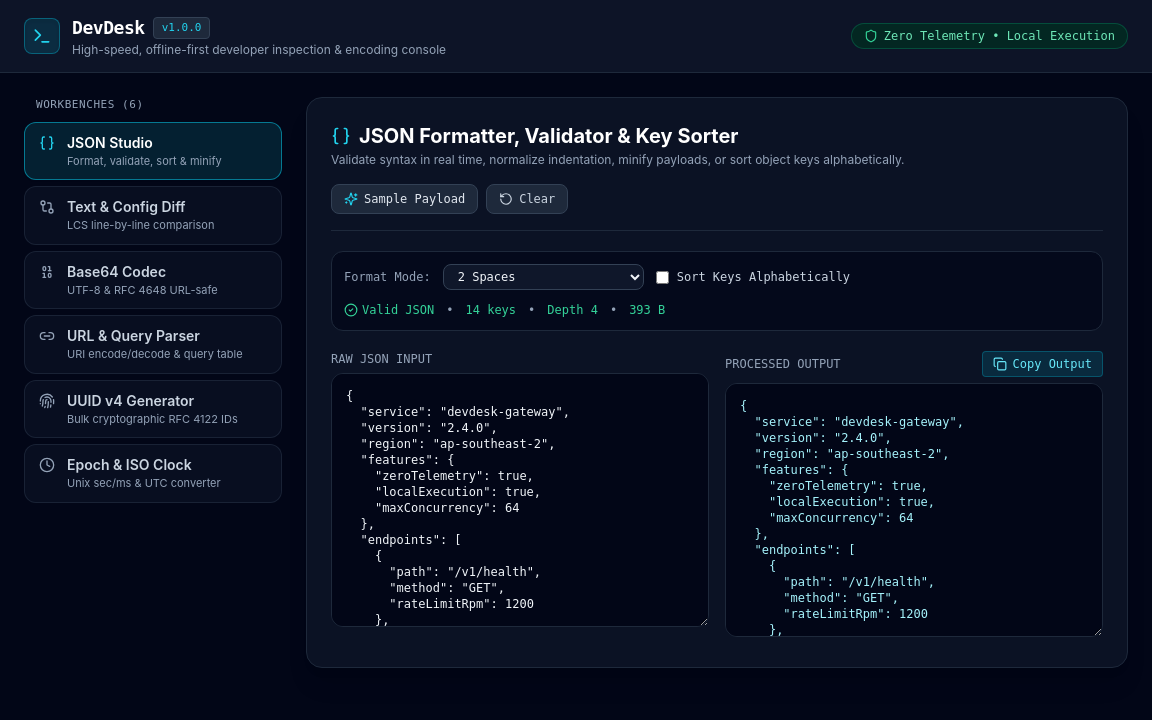
Test case: DevDesk Developer Utilities Suite › renders the DevDesk UI and navigates across all 6 developer tools
This screenshot has width=1152, height=720.
Expected: the heading "DevDesk" is shown, x1=72 y1=14 x2=145 y2=42
Expected: the heading "JSON Formatter, Validator & Key Sorter" is shown, x1=331 y1=124 x2=738 y2=148
Click the button "Text & Config Diff LCS line-by-line comparison" at (153, 215), box x1=24 y1=186 x2=282 y2=244
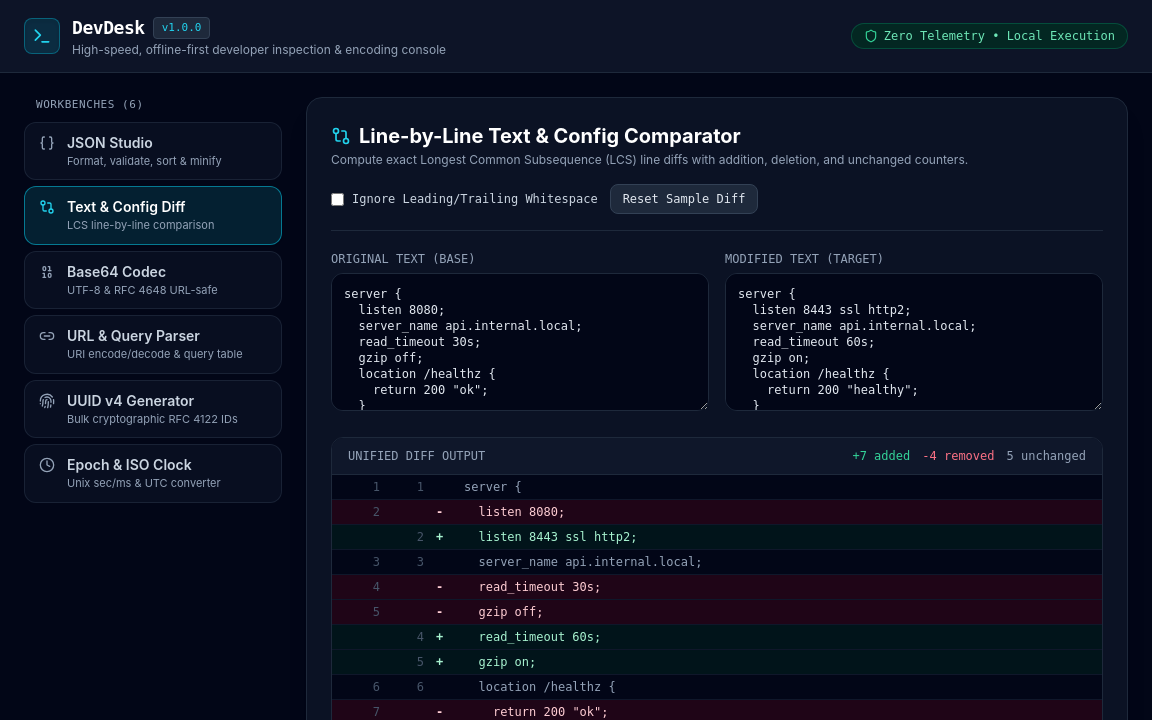
Now the heading "Line-by-Line Text & Config Comparator" is shown, box x1=331 y1=124 x2=741 y2=148
Click the button "UUID v4 Generator Bulk cryptographic RFC 4122 IDs" at (153, 409), box x1=24 y1=380 x2=282 y2=438
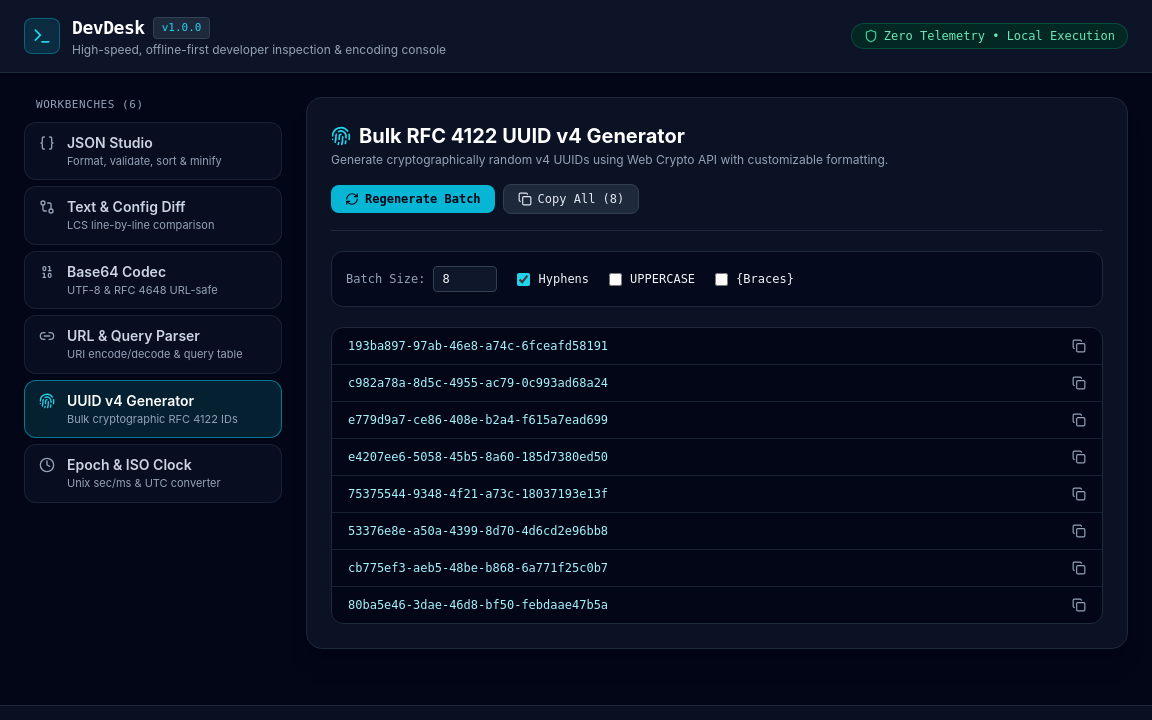
Now the heading "Bulk RFC 4122 UUID v4 Generator" is shown, box x1=331 y1=124 x2=685 y2=148
